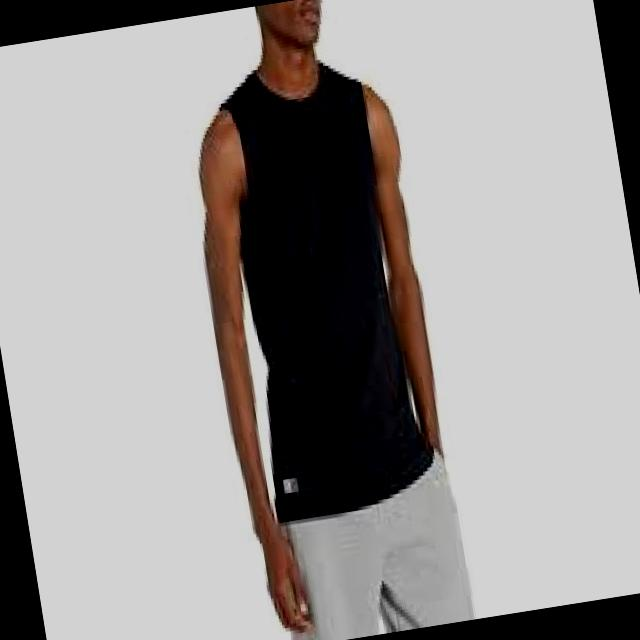no_vest: (204, 48, 442, 526)
